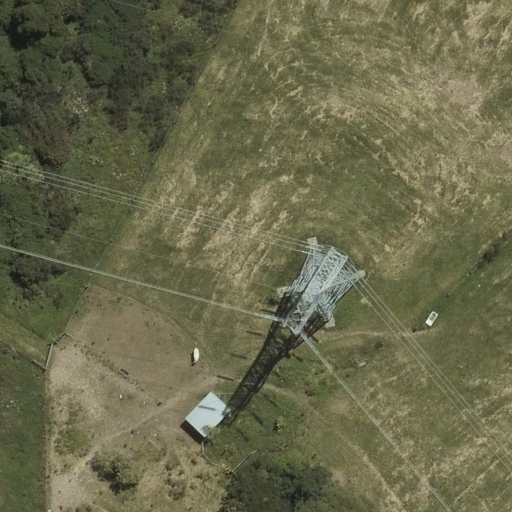TT: (273, 227, 368, 335)
